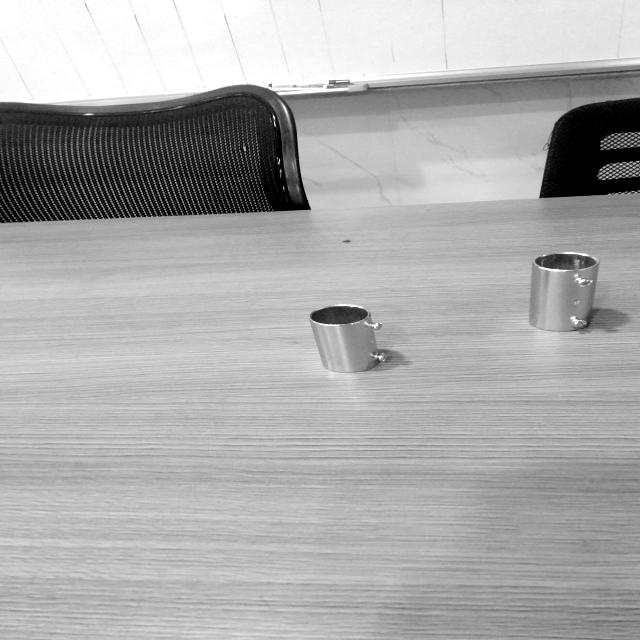Co_Lon: (526, 249, 600, 334)
Co_Nho: (308, 297, 389, 379)
